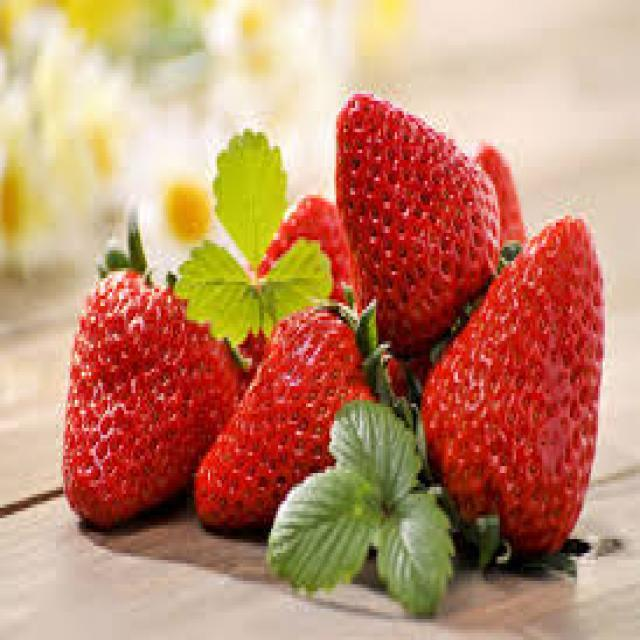Fruta sana: (423, 233, 612, 572), (192, 288, 400, 546), (59, 247, 236, 526), (338, 81, 503, 342), (245, 200, 368, 339)
